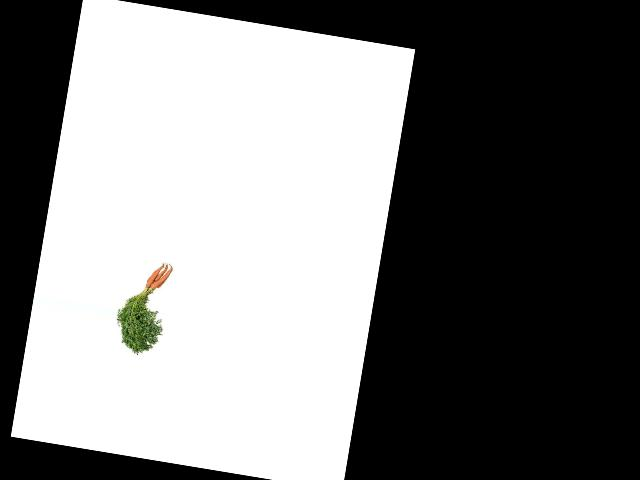carrot: (150, 266, 173, 294)
